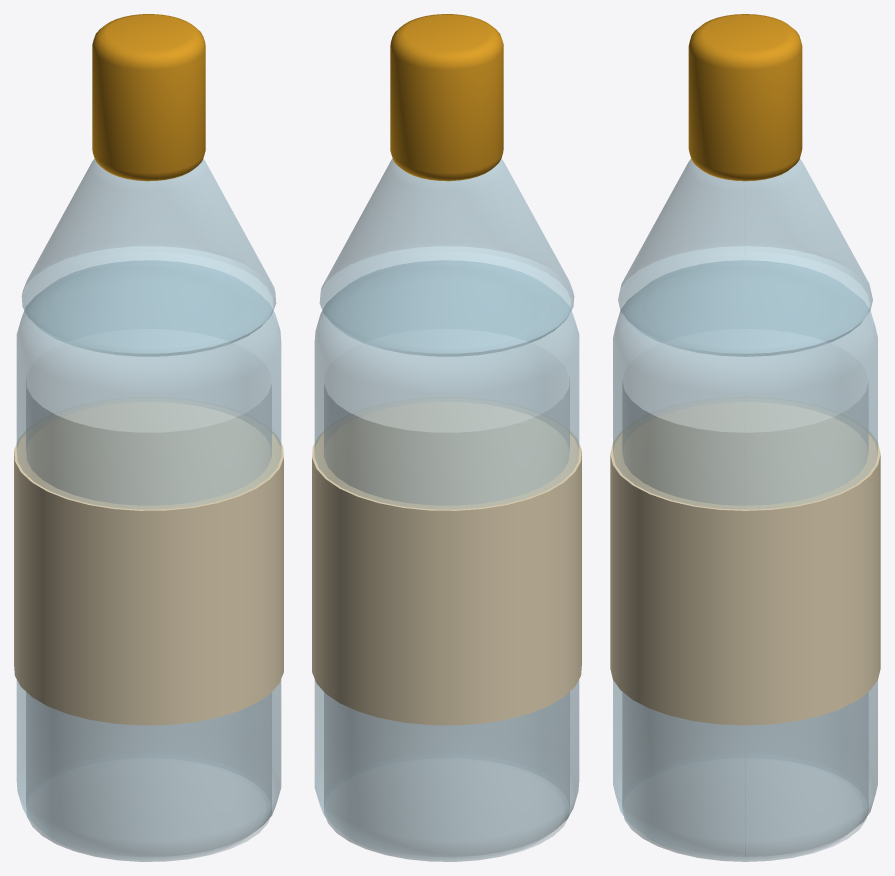
Rendered from chekushka.glb.
3 renders of one model, left to right at view 1: azimuth 30°, elevation 25°; view 2: azimuth 150°, elevation 25°; view 3: azimuth 270°, elevation 25°, orthographic.
Visible parts, largest first — view 1: chekushka; view 2: chekushka; view 3: chekushka.
Part boxes in pixels (x1=…): chekushka: x1=14, y1=14, x2=283, y2=861; chekushka: x1=312, y1=14, x2=581, y2=861; chekushka: x1=610, y1=14, x2=880, y2=861.
Size of the model in its own units: 0.0571 by 0.183 by 0.0571.
